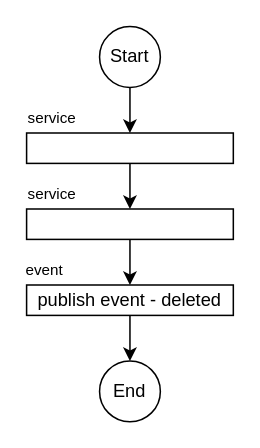
Image size: 260x448. Some labels were removed from this diagram. The centre of each missing label's shape, as x and y in pixels:
"delete" belongs at point 129,223.
"get experiment by id" belongs at point 129,147.
